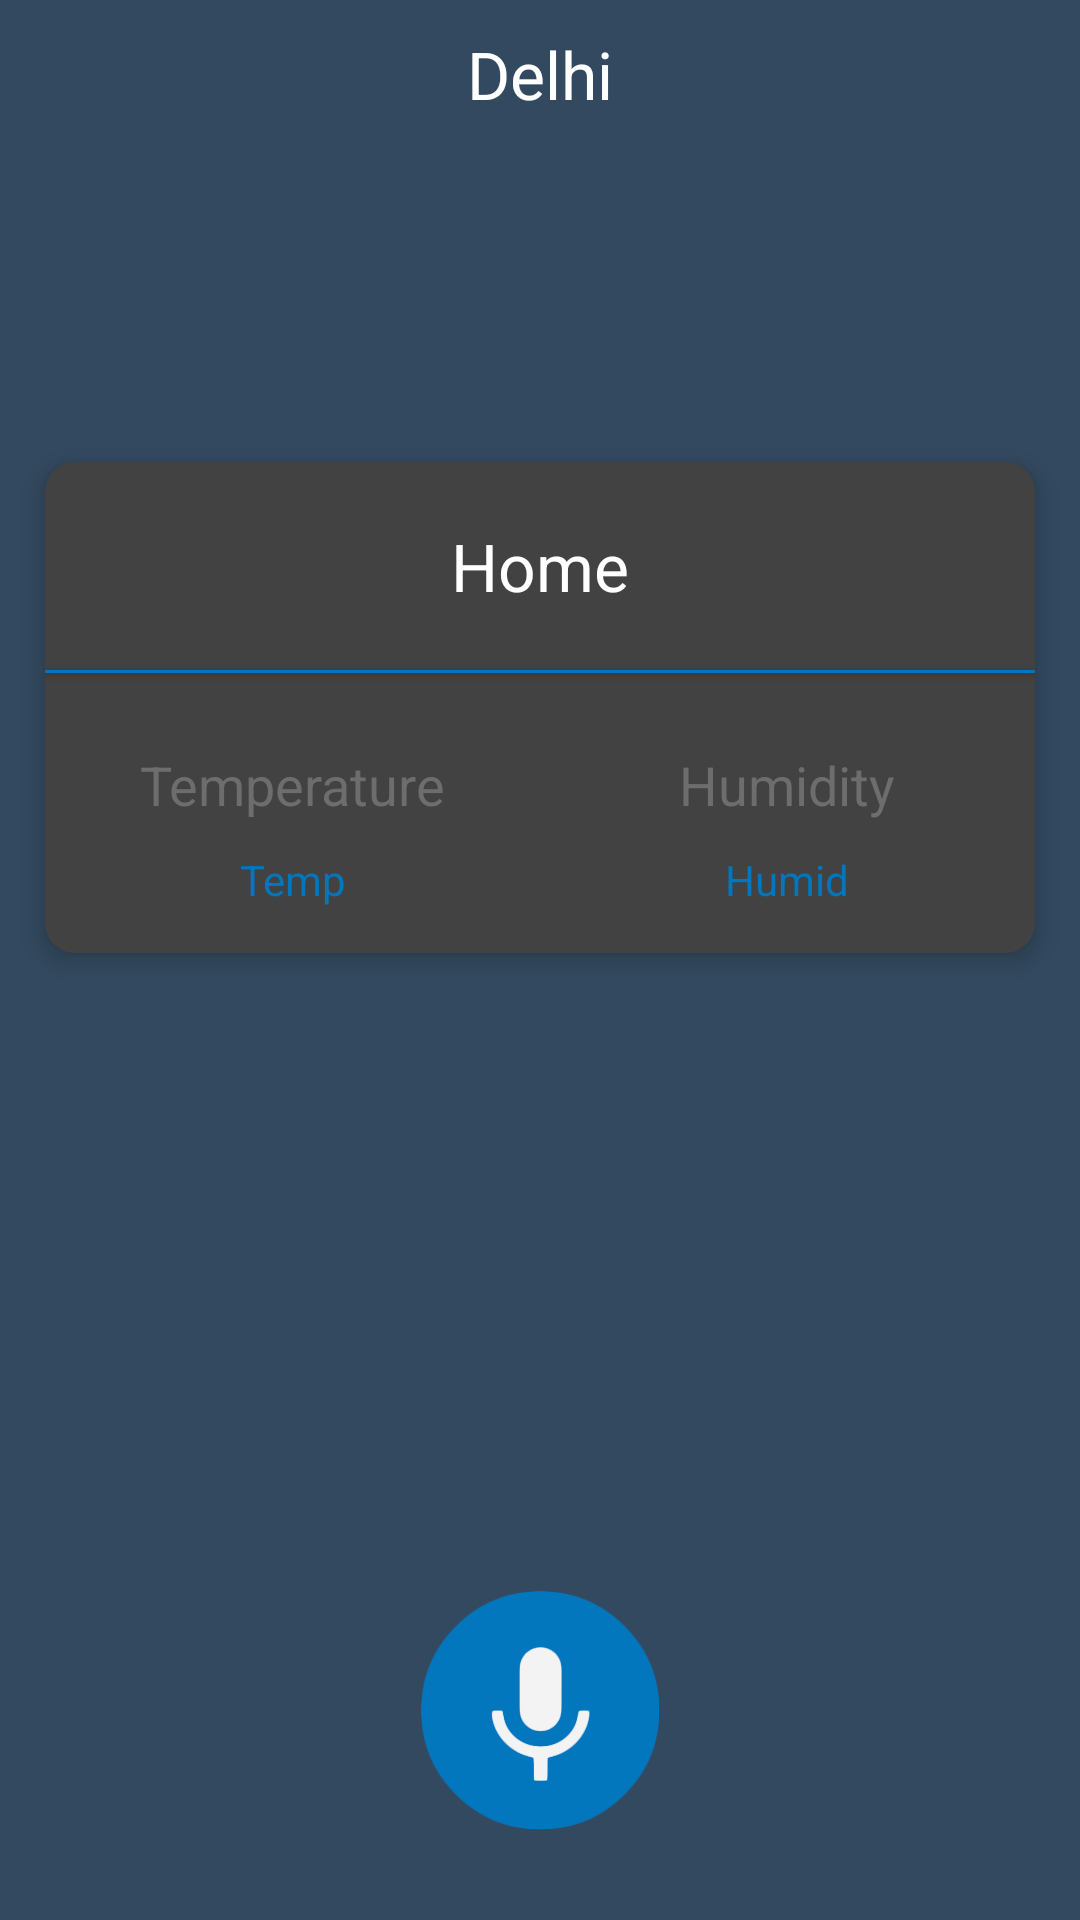

Screen size 1080x1920. Icon name, then its center in pixels as (x=x, y=y):
mic: (x=540, y=1710)
